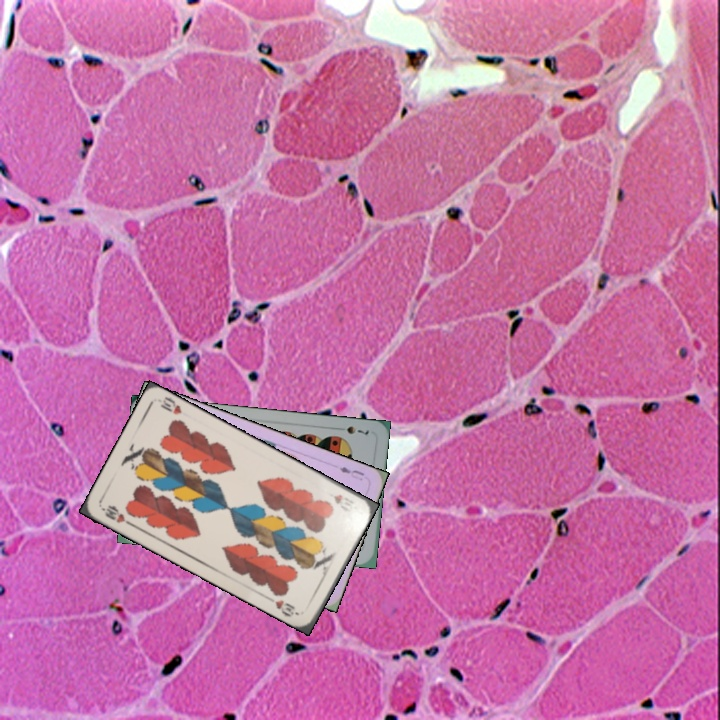EU: (335, 462, 367, 483)
H10: (98, 501, 136, 528), (330, 490, 356, 514)
S7: (333, 422, 372, 439)
